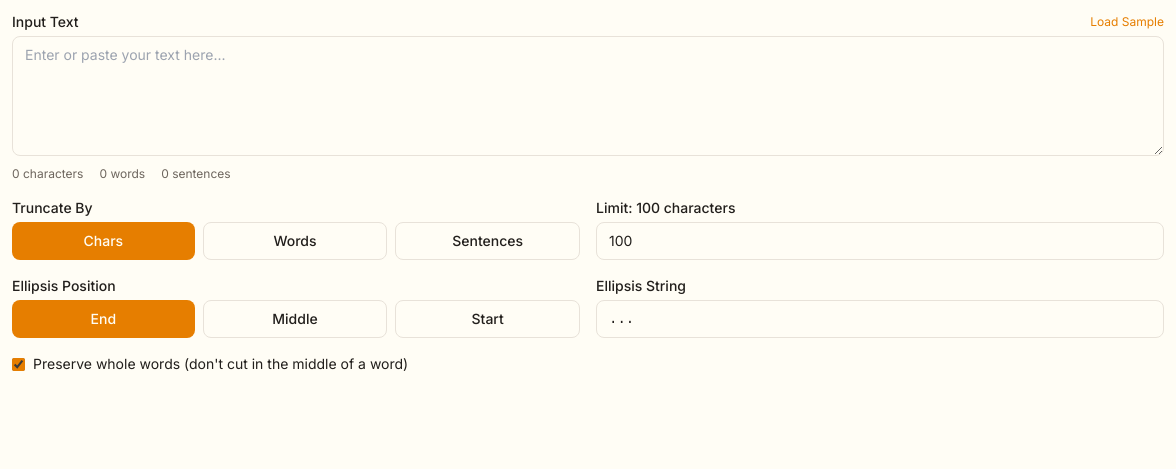
it: TextTruncator › shows character, word, and sentence stats
Type "Hello world. How are you?" into the text box named "Text input" at {"x": 588, "y": 96}, box [12,36,1164,156]
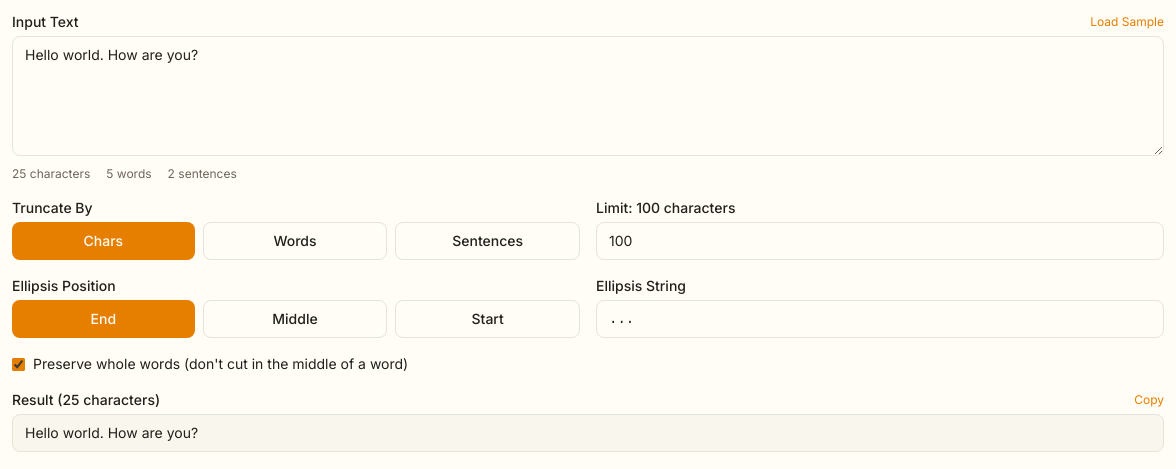
expect the text "25 characters" is shown: met, box [12,166,90,182]
expect the text "5 words" is shown: met, box [106,166,152,182]
expect the text "2 sentences" is shown: met, box [168,166,237,182]
